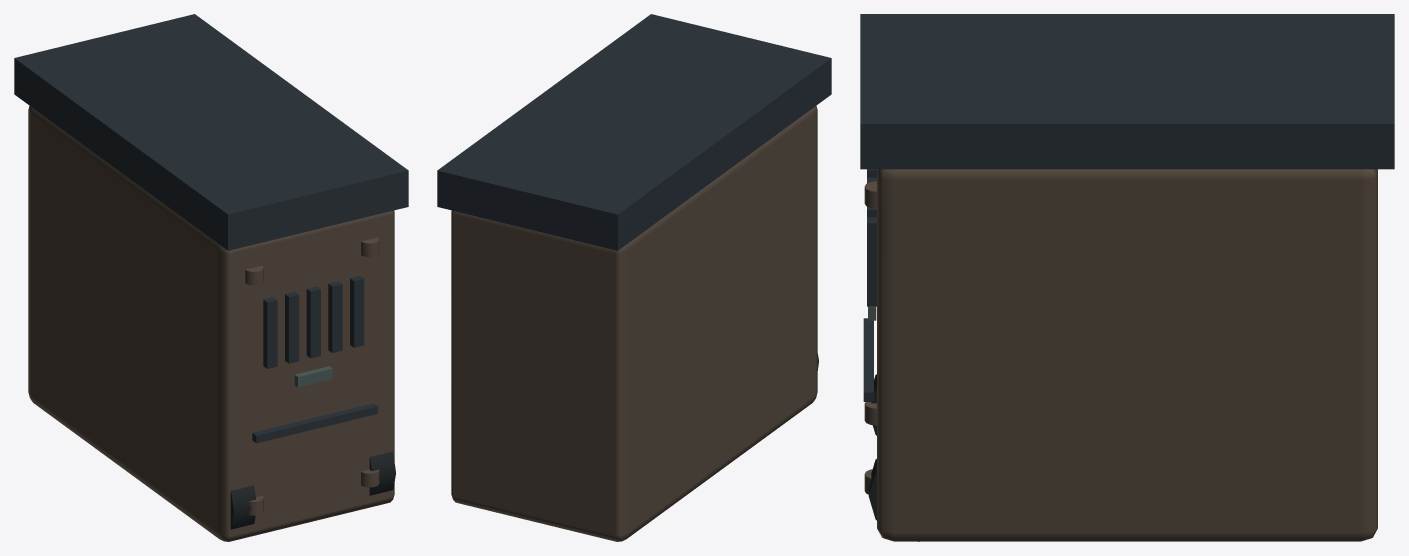
File: wheelie-bin-3.glb
3 views of the same model, side by side, from view 1: azimuth 30°, elevation 25°; view 2: azimuth 150°, elevation 25°; view 3: azimuth 270°, elevation 25° (orthographic). The views are drawn at different scales.
Visible parts, largest first — view 1: wheelie-bin/2/KR-230-3; view 2: wheelie-bin/2/KR-230-3; view 3: wheelie-bin/2/KR-230-3.
Boxes of the visible parts, x1,y1,x2,y2 form: wheelie-bin/2/KR-230-3: (14, 14, 408, 541); wheelie-bin/2/KR-230-3: (437, 14, 831, 541); wheelie-bin/2/KR-230-3: (860, 14, 1394, 541).
Bounding box in the file's own units: 0.624 × 1.12 × 1.28.
